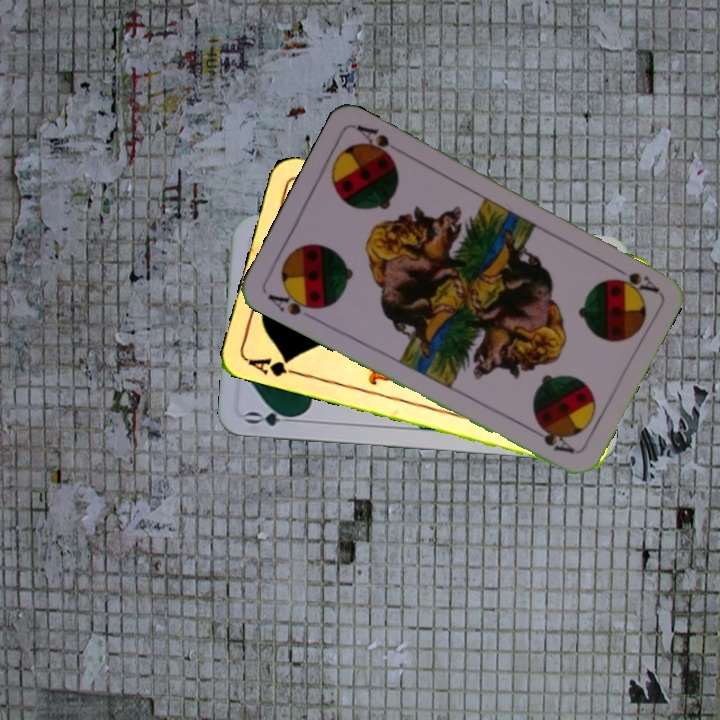GA: (244, 353, 303, 380)
GO: (242, 407, 302, 428)
SA: (263, 285, 323, 318), (606, 260, 661, 295)
